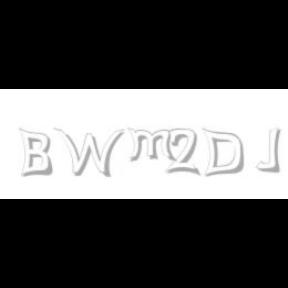2: (165, 128, 199, 176)
B: (18, 128, 52, 178)
D: (202, 128, 244, 178)
J: (256, 128, 280, 172)
W: (53, 128, 125, 178)
m: (126, 128, 178, 162)
